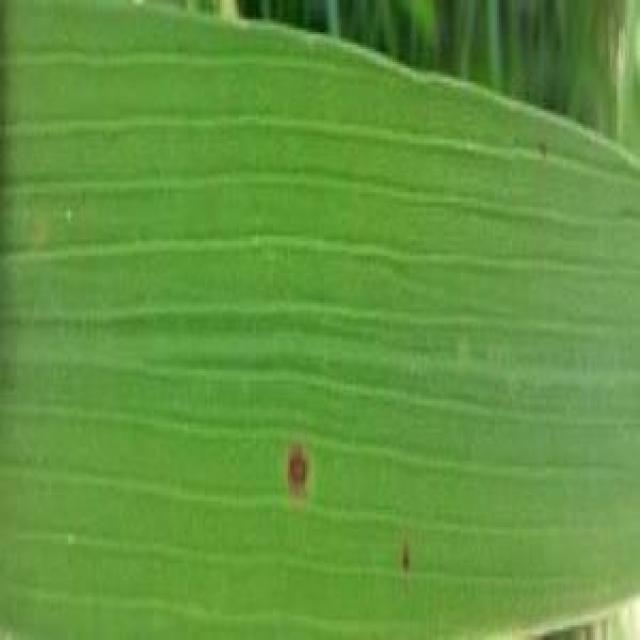Brown_Spot: (275, 430, 326, 508), (395, 543, 424, 582)
